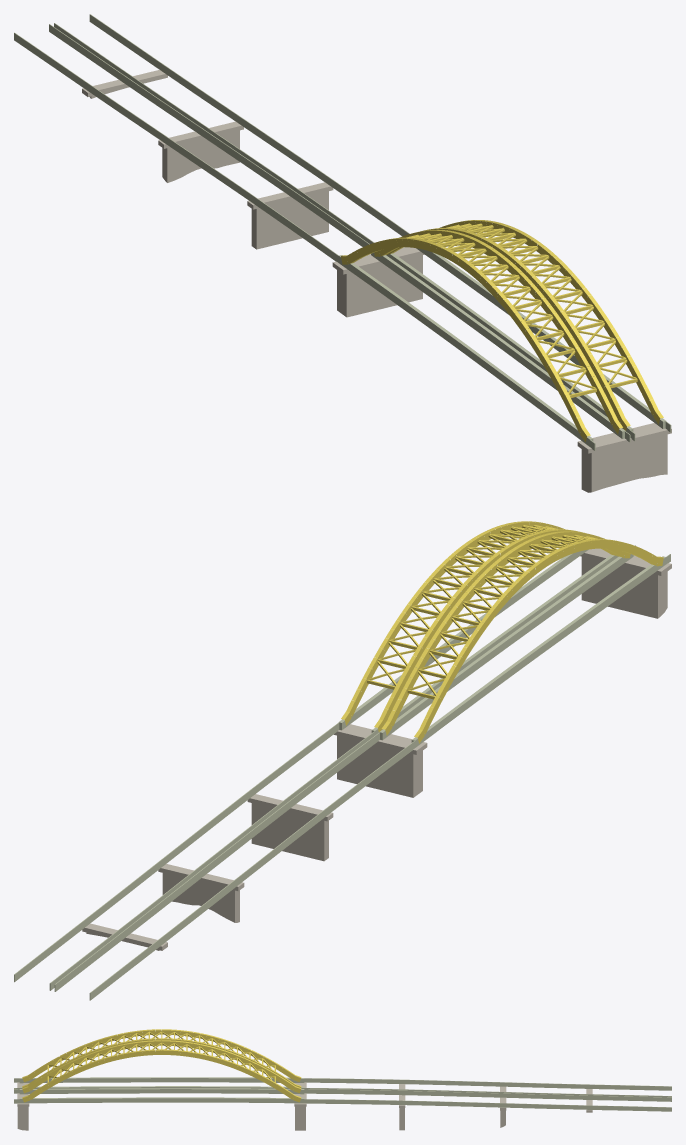
File: cin-big-mac-bridge.glb
3 renders of one model, top to bottom at view 1: azimuth 30°, elevation 25°; view 2: azimuth 150°, elevation 25°; view 3: azimuth 270°, elevation 25°, orthographic. The views are drawn at different scales.
Parts seen in each view (by area): view 1: Daniel Carter Beard Bridge; view 2: Daniel Carter Beard Bridge; view 3: Daniel Carter Beard Bridge.
Boxes of the visible parts, box(x1,y1,x2,y2) form: Daniel Carter Beard Bridge: box(14, 14, 671, 492); Daniel Carter Beard Bridge: box(14, 521, 671, 1000); Daniel Carter Beard Bridge: box(14, 1029, 671, 1130).
Bounding box in the file's own units: 44.5 × 72 × 534.
